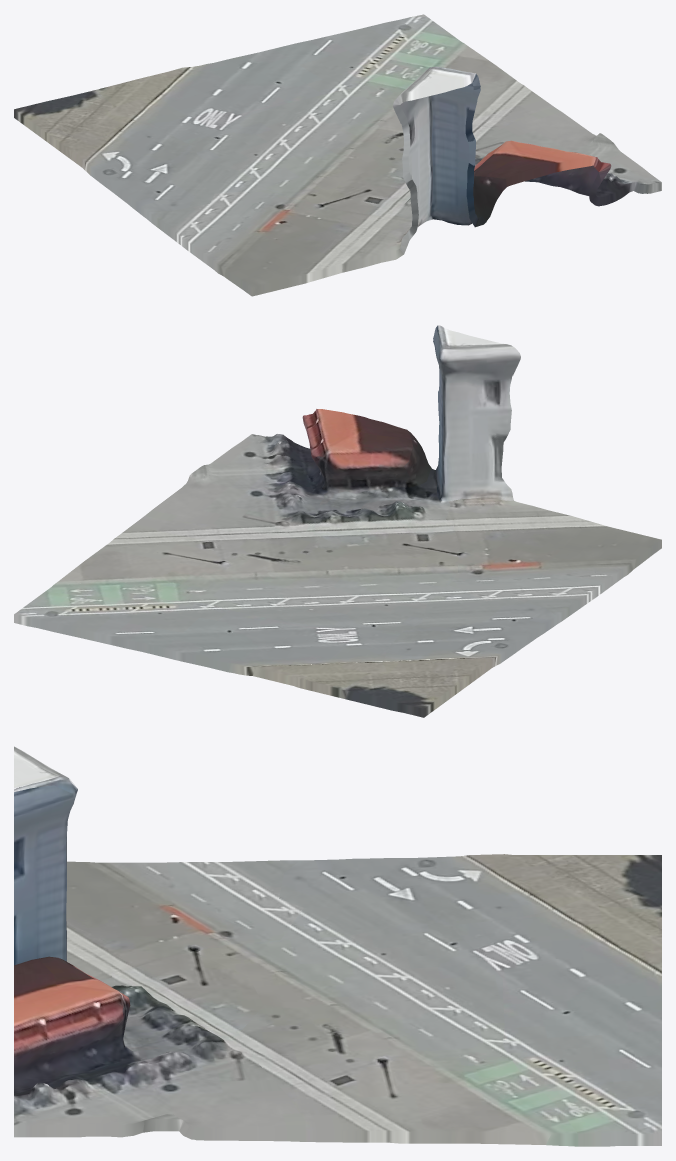
Rendered from z20-167781-405209-h0-yup-uvflip-v3-world.glb.
3 renders of one model, top to bottom at view 1: azimuth 30°, elevation 25°; view 2: azimuth 150°, elevation 25°; view 3: azimuth 270°, elevation 25°, orthographic. The views are drawn at different scales.
Bounding box in the file's own units: 30.16 × 12 × 30.32.
1 material, 1 textured.
